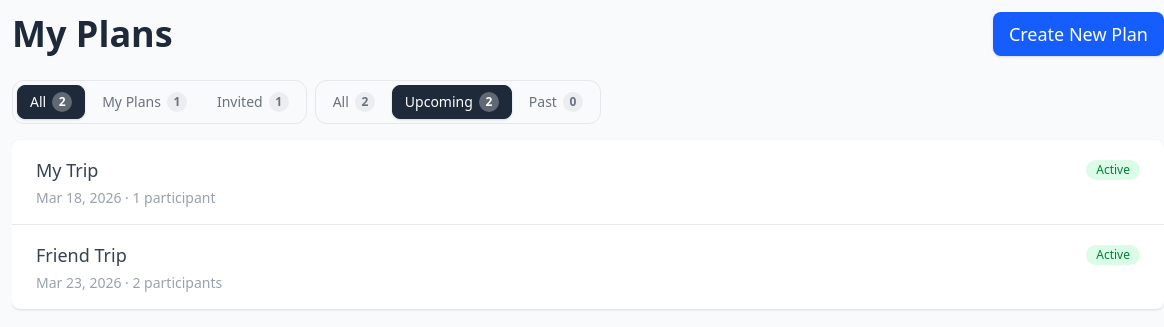
PlansList › filters by invited when user is invited to plans
Click the tab with test id "membership-filter-invited" at x=253, y=102, box 204,85 -> 302,119
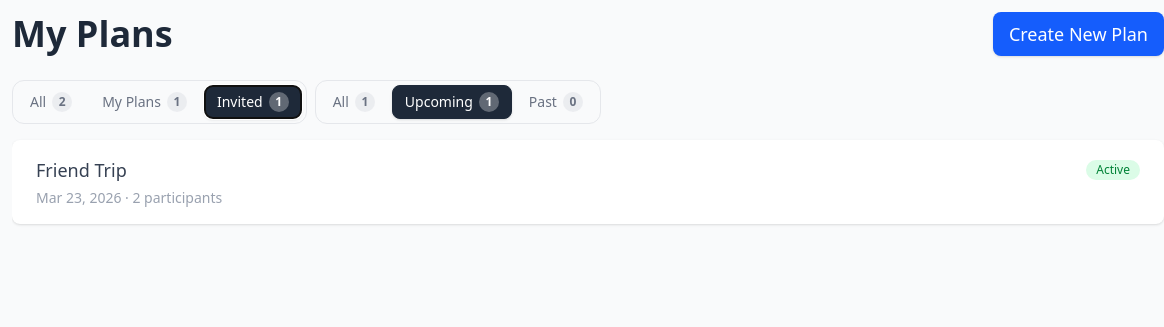
expect the text "Friend Trip" is shown: met, box 36,156 -> 127,184
expect the link "My Trip" is gone: met
